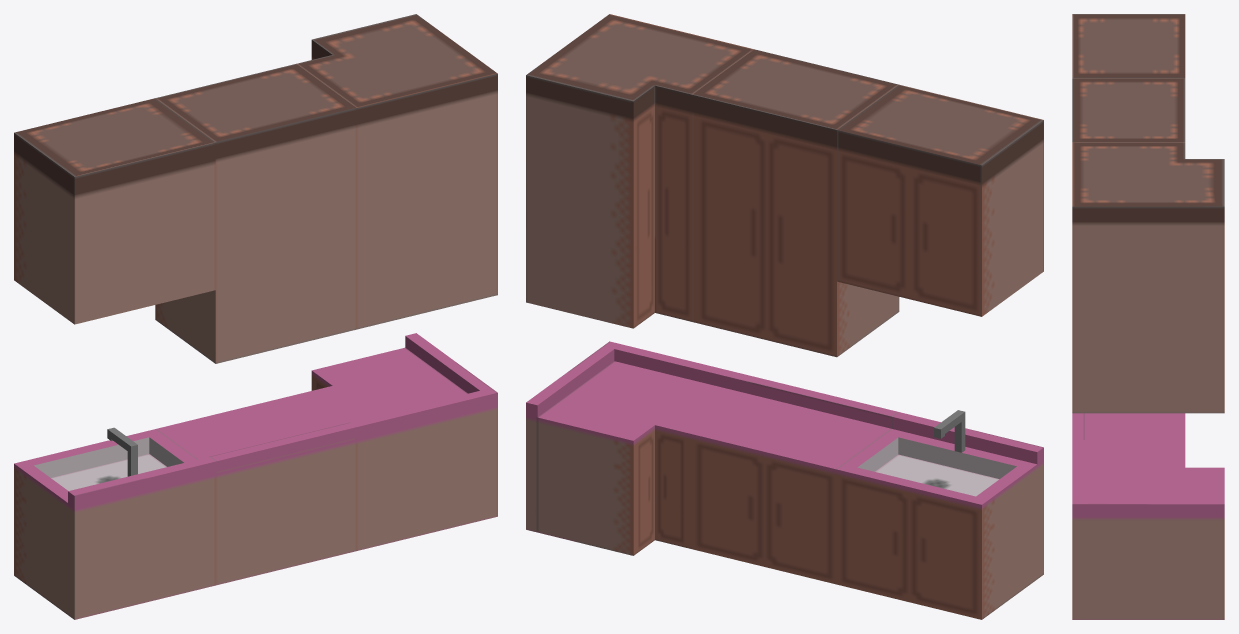
The model's file is Counters_Cabinets.fbx.
3 renders of one model, left to right at view 1: azimuth 30°, elevation 25°; view 2: azimuth 150°, elevation 25°; view 3: azimuth 270°, elevation 25°, orthographic. The views are drawn at different scales.
Parts seen in each view (by area): view 1: Cabinet_Long, Cabinet_Corner, Cabinet_Short, Sink, Counter_Corner, Counter; view 2: Cabinet_Corner, Cabinet_Long, Cabinet_Short, Sink, Counter_Corner, Counter; view 3: Cabinet_Corner, Counter_Corner, Cabinet_Long, Cabinet_Short, Counter.
Boxes of the visible parts, x1,y1,x2,y2 form: Cabinet_Long: [155, 64, 356, 363]; Cabinet_Corner: [296, 14, 497, 329]; Cabinet_Short: [14, 98, 215, 324]; Sink: [14, 427, 215, 619]; Counter_Corner: [297, 333, 497, 550]; Counter: [155, 394, 356, 585]; Cabinet_Corner: [526, 14, 753, 328]; Cabinet_Long: [692, 49, 899, 357]; Cabinet_Short: [837, 84, 1043, 316]; Sink: [837, 410, 1043, 619]; Counter_Corner: [526, 341, 753, 555]; Counter: [692, 376, 898, 584]; Cabinet_Corner: [1072, 142, 1224, 413]; Counter_Corner: [1072, 440, 1224, 619]; Cabinet_Long: [1072, 78, 1185, 142]; Cabinet_Short: [1072, 14, 1185, 78]; Counter: [1072, 413, 1185, 450].
Size of the model in its own units: 600 by 600 by 200.
